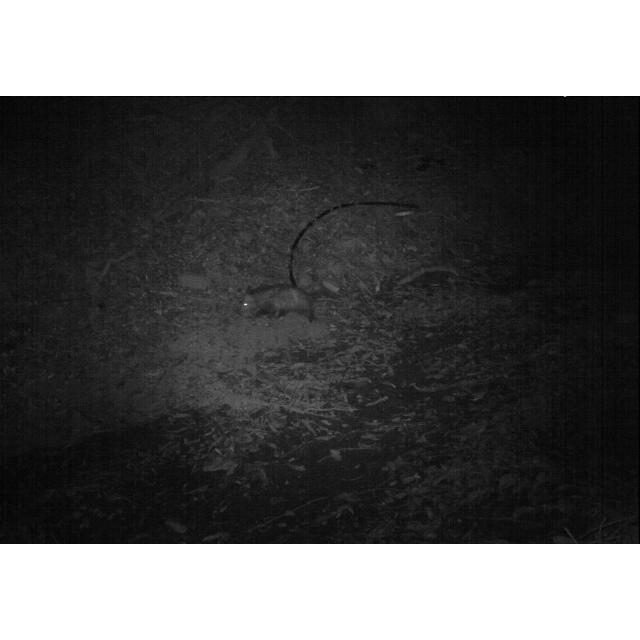animals: (244, 282, 328, 324)
